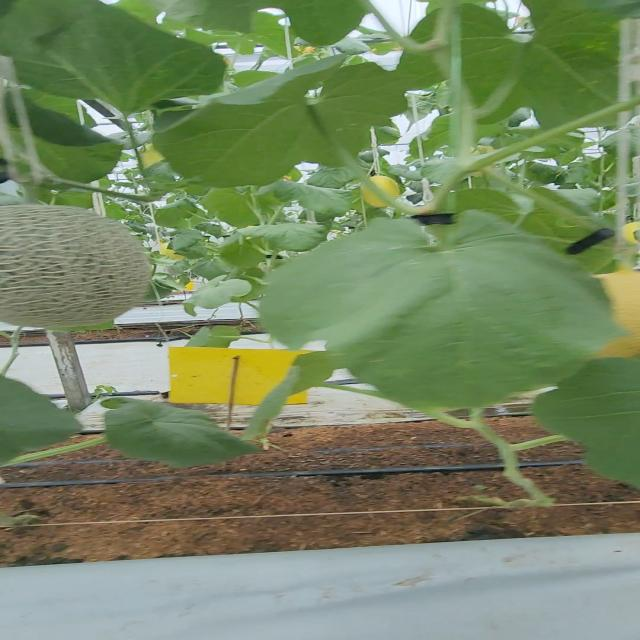Melon: (0, 202, 152, 327)
